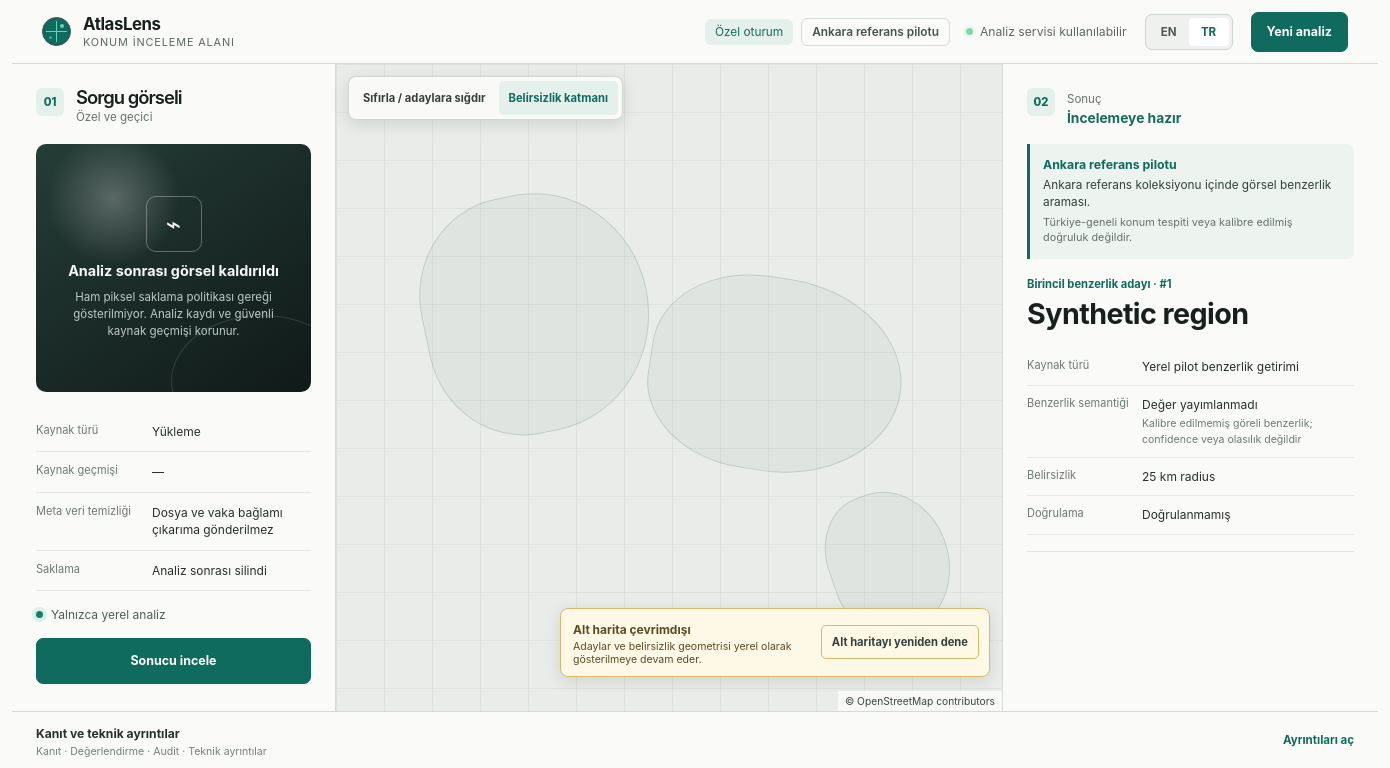
Phase 3D guided investor demo › does not invent an evidence source when the selected case has none
Expected: the heading "Sorgu görseli" is shown, [76,88,182,106]
Step 1. Click the button "Kanıt ve teknik ayrıntılar" → (108,734), box [12,712,1378,767]
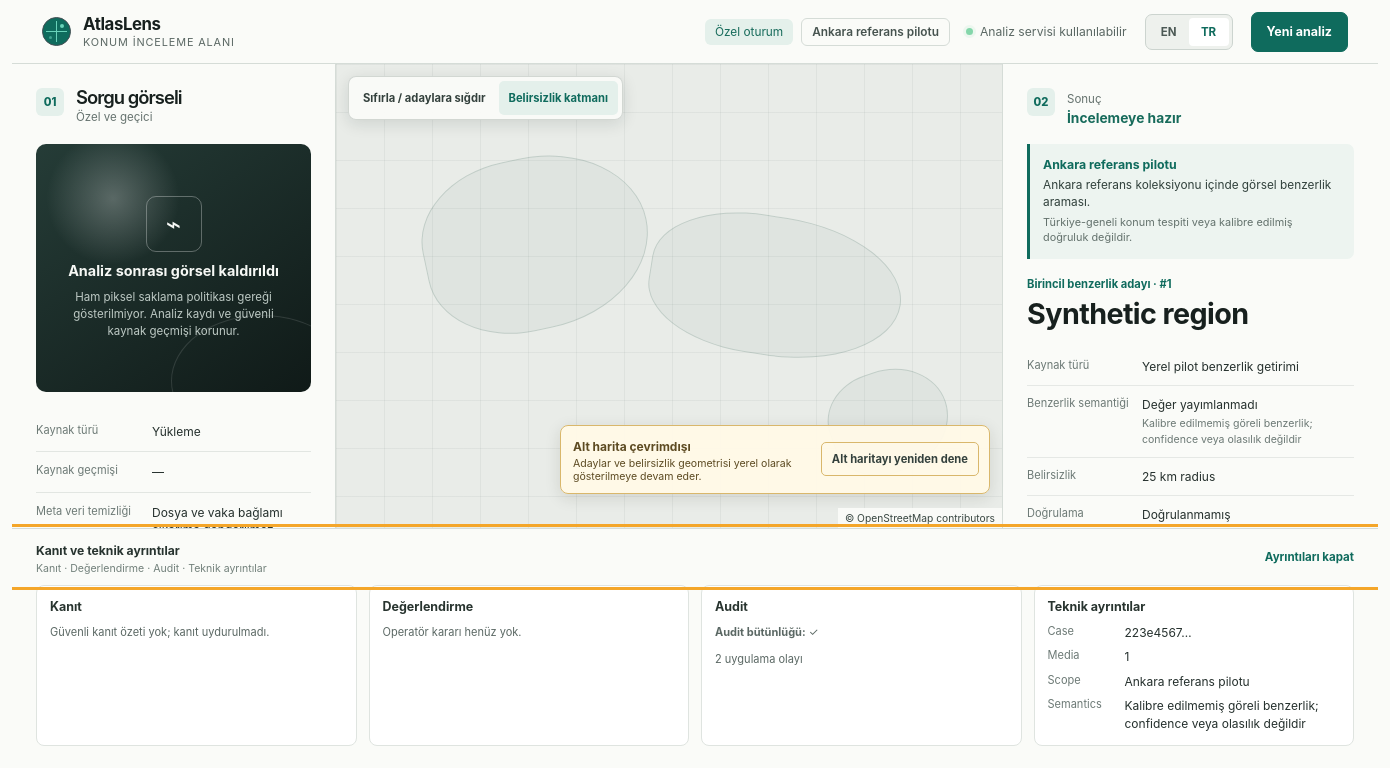
Expected: the text "Güvenli kanıt özeti yok; kanıt uydurulmadı." is shown, [50,625,269,639]
